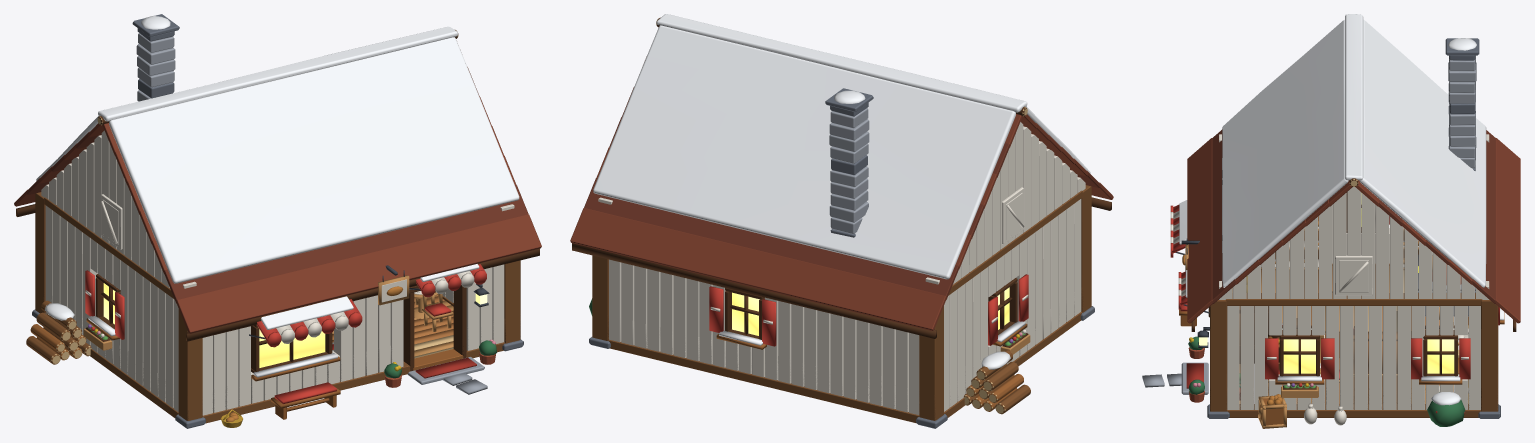
File: bakery.glb
3 views of the same model, side by side, from view 1: azimuth 30°, elevation 25°; view 2: azimuth 150°, elevation 25°; view 3: azimuth 270°, elevation 25° (orthographic). The views are drawn at different scales.
Parts seen in each view (by area): view 1: roof, walls, exterior, walls_low, floor, interior; view 2: roof, walls, walls_low, exterior; view 3: roof, walls, exterior, walls_low, floor, interior.
Part boxes in pixels (bbox=[...]): roof: bbox=[14, 14, 541, 341]; walls: bbox=[32, 192, 523, 428]; exterior: bbox=[26, 300, 496, 427]; walls_low: bbox=[36, 287, 520, 420]; floor: bbox=[332, 295, 484, 384]; interior: bbox=[332, 291, 453, 351]; roof: bbox=[570, 14, 1113, 338]; walls: bbox=[589, 185, 1094, 428]; walls_low: bbox=[592, 282, 1091, 420]; exterior: bbox=[589, 298, 1030, 414]; roof: bbox=[1187, 14, 1520, 331]; walls: bbox=[1170, 192, 1504, 418]; exterior: bbox=[1142, 303, 1465, 428]; walls_low: bbox=[1210, 256, 1498, 411]; floor: bbox=[1181, 266, 1468, 403]; interior: bbox=[1232, 216, 1475, 403].
Size of the model in its own units: 8.06 by 5.61 by 6.98.
